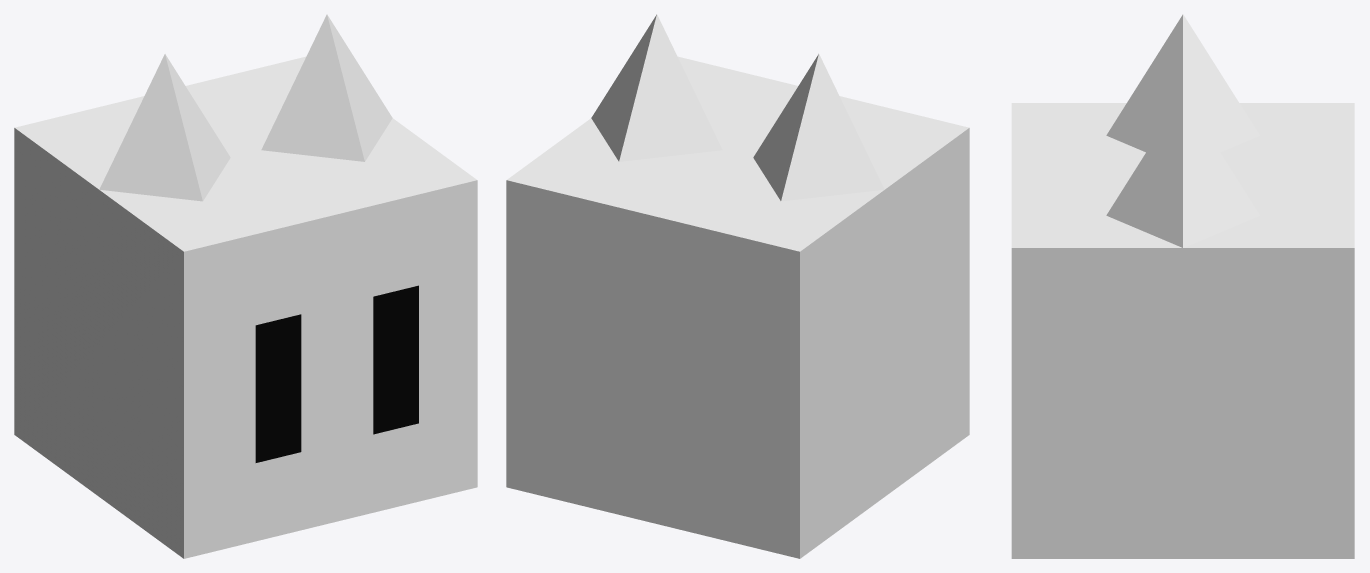
Rendered from tuno.obj.
The picture shows the model from 3 angles, left to right: view 1: azimuth 30°, elevation 25°; view 2: azimuth 150°, elevation 25°; view 3: azimuth 270°, elevation 25°; orthographic projection.
Parts seen in each view (by area): view 1: pCube1, pCone1, pCone2, pPlane1, pPlane2; view 2: pCube1, pCone1, pCone2, pPlane3; view 3: pCube1, pCone2, pCone1.
Boxes of the visible parts, bbox=[...] form: pCube1: bbox=[14, 56, 477, 558]; pCone1: bbox=[99, 54, 230, 201]; pCone2: bbox=[261, 14, 392, 161]; pPlane1: bbox=[255, 314, 301, 462]; pPlane2: bbox=[373, 285, 418, 434]; pCube1: bbox=[506, 56, 969, 558]; pCone1: bbox=[753, 54, 884, 201]; pCone2: bbox=[591, 14, 722, 161]; pPlane3: bbox=[545, 313, 604, 388]; pCube1: bbox=[1011, 103, 1354, 558]; pCone2: bbox=[1106, 94, 1259, 247]; pCone1: bbox=[1106, 14, 1259, 152].
Size of the model in its own units: 5 by 6.96 by 5.21.
2 materials, 1 textured.
